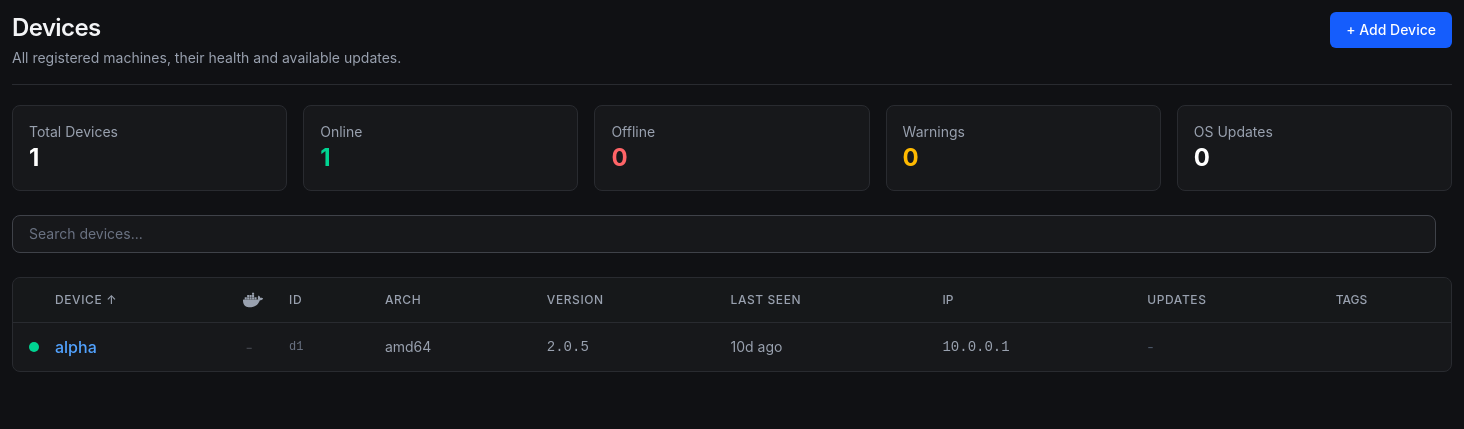
Test case: [UIF AC-092] empty fleet shows SetupGuide › shows "No devices match your search" (not the guide) when a search hides every device
Check: the link "alpha" is shown, box [55, 337, 97, 357]
Type "zzz" into the field with placeholder "Search devices..." at (724,234), box [12, 215, 1436, 253]
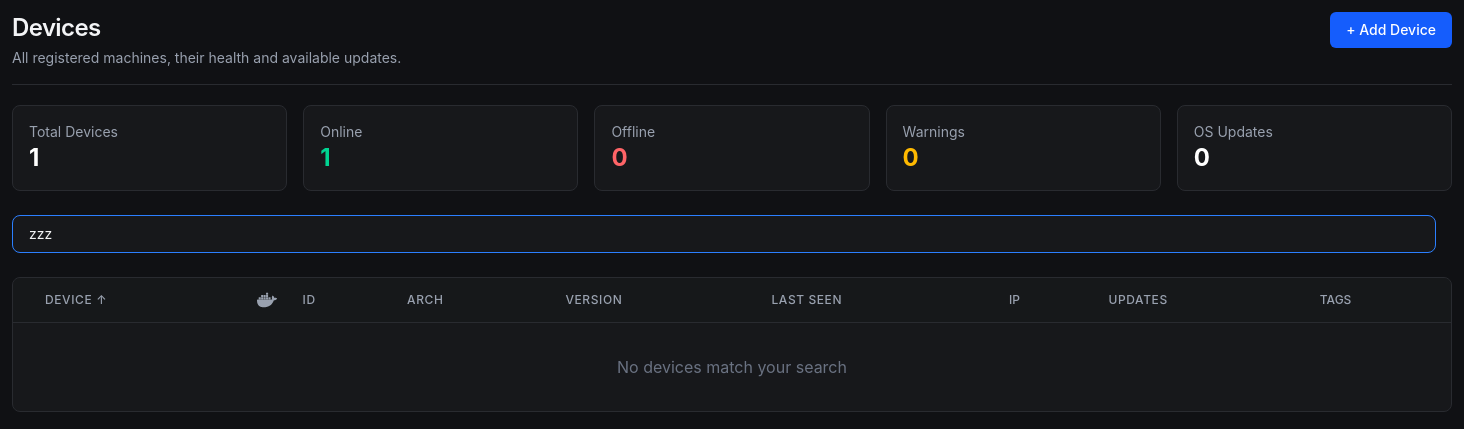
Check: the text "No devices match your search" is shown, box [13, 322, 1451, 411]
